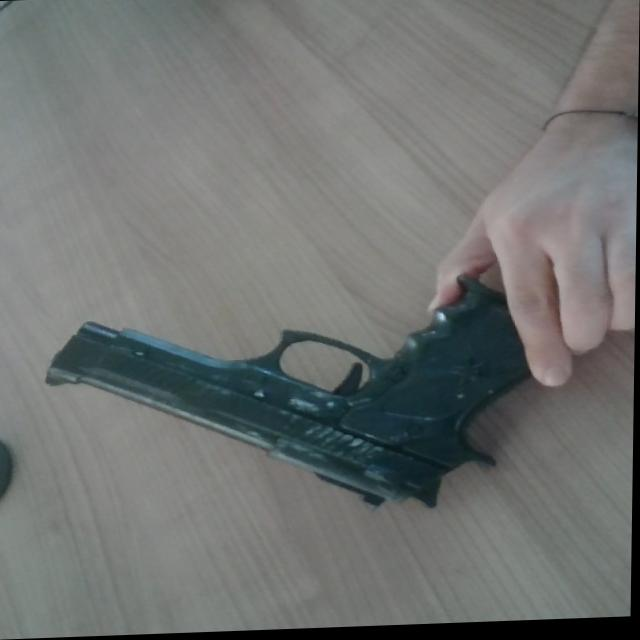handgun: (20, 239, 545, 514)
